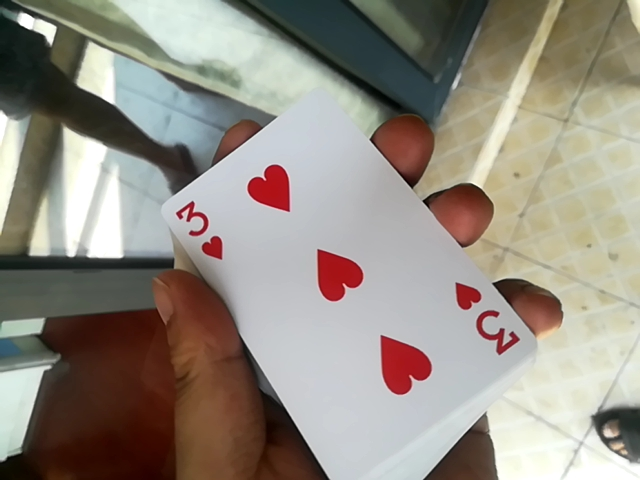hx 3: (99, 85, 526, 480)
